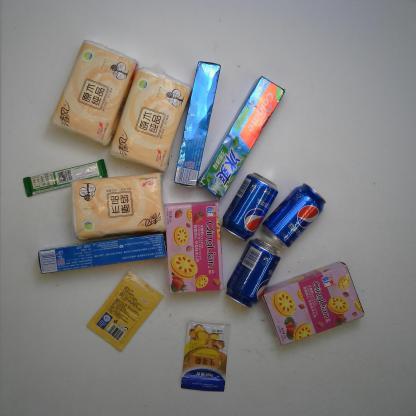Chocolate: (22, 157, 110, 198)
Dessert: (260, 260, 367, 348), (163, 198, 225, 294)
Drink: (260, 181, 327, 251), (220, 171, 280, 242), (225, 237, 282, 309)
Personal Hygiene: (195, 74, 287, 203), (172, 59, 222, 190), (37, 233, 168, 276)
Seasoner: (86, 268, 166, 356), (179, 319, 234, 393)
Tissue: (46, 37, 142, 149), (107, 63, 194, 175), (68, 170, 169, 242)
